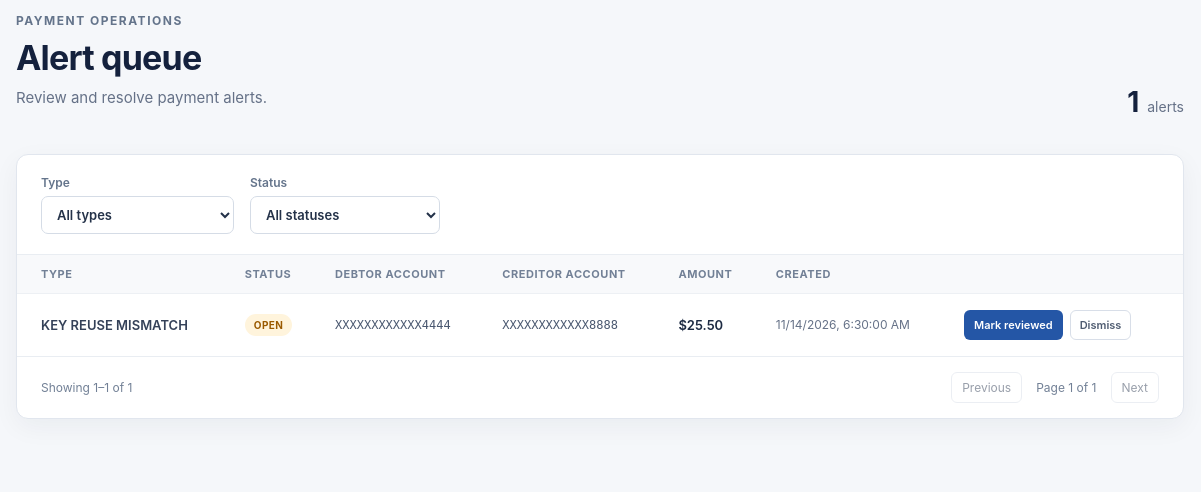
alert queue › shows an error when an alert action fails
Click the button "Mark reviewed".
click(1013, 325)  # box [964,310,1063,340]
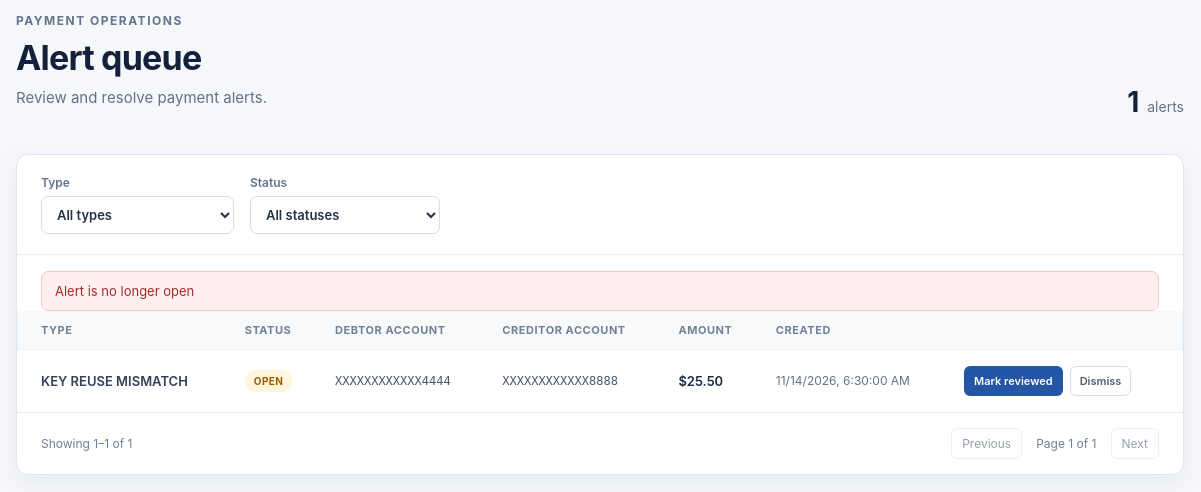
Now the message reads "Alert is no longer open", box [55,283,194,299]
